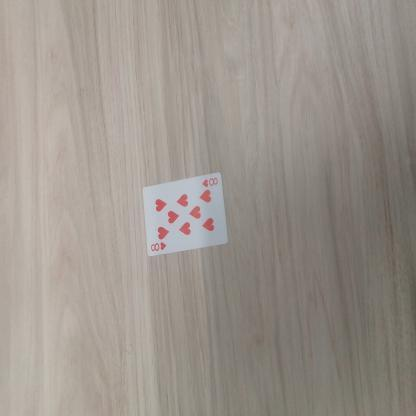8H: (200, 174, 222, 192), (151, 239, 170, 253)
